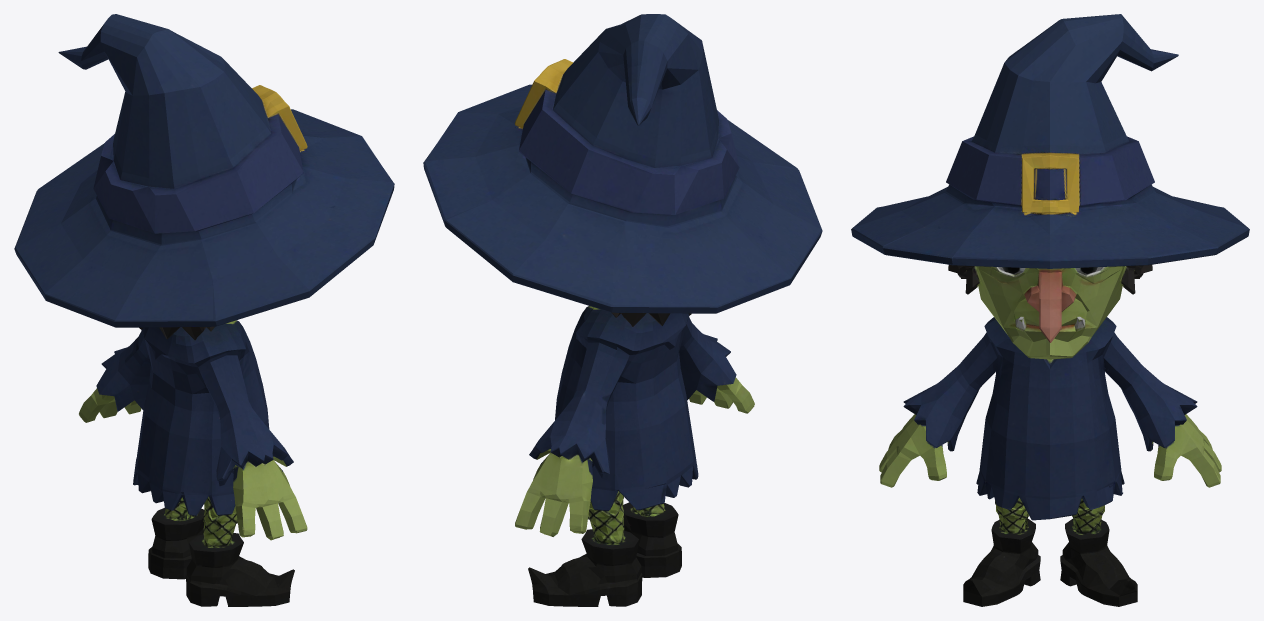
Rendered from tripo_convert_dbe28d9d-1148-4f3f-a5f8-e8cf637fdc29.fbx.
3 renders of one model, left to right at view 1: azimuth 30°, elevation 25°; view 2: azimuth 150°, elevation 25°; view 3: azimuth 270°, elevation 25°, orthographic. The views are drawn at different scales.
Parts seen in each view (by area): view 1: tripo_node_dbe28d9d; view 2: tripo_node_dbe28d9d; view 3: tripo_node_dbe28d9d.
Part boxes in pixels (x1,y1,x2,y2): tripo_node_dbe28d9d: (14, 14, 394, 606); tripo_node_dbe28d9d: (423, 14, 822, 606); tripo_node_dbe28d9d: (851, 14, 1249, 606).
Bounding box in the file's own units: 0.6007 × 0.9998 × 0.6672.
1 material, 1 textured.
